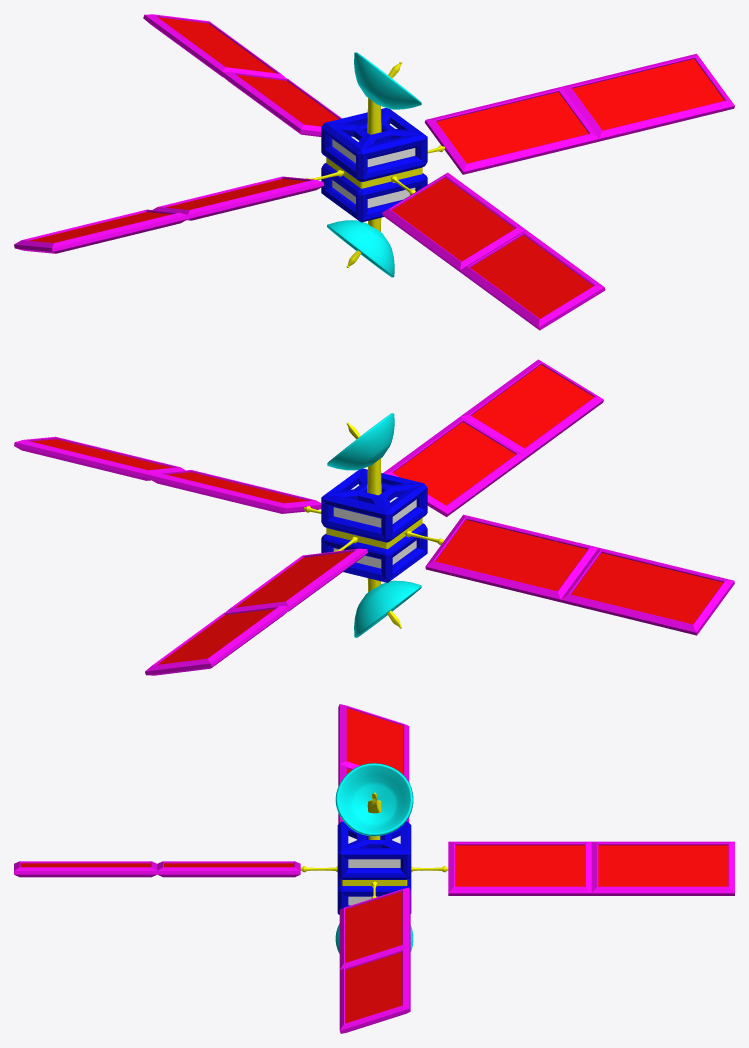
File: sat_01.obj
3 views of the same model, one above another, from view 1: azimuth 30°, elevation 25°; view 2: azimuth 150°, elevation 25°; view 3: azimuth 270°, elevation 25° (orthographic). The views are drawn at different scales.
Visible parts, largest first — view 1: sat_01 st_grp; view 2: sat_01 st_grp; view 3: sat_01 st_grp.
Part boxes in pixels (x1,y1,x2,y2): sat_01 st_grp: (14, 14, 734, 330); sat_01 st_grp: (14, 359, 734, 675); sat_01 st_grp: (14, 704, 734, 1033).
Size of the model in its own units: 976 by 301 by 976.
